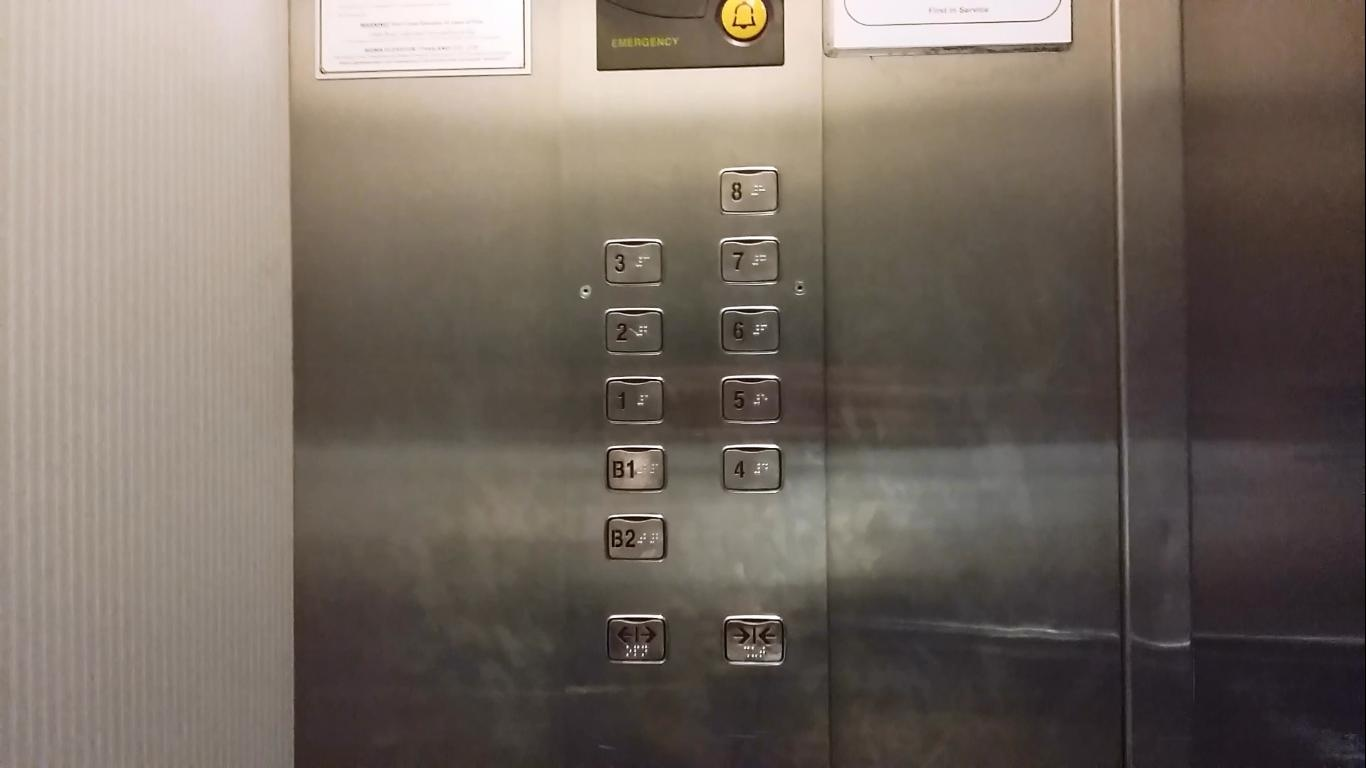1: (602, 373, 668, 425)
2: (600, 305, 666, 357)
3: (600, 236, 667, 290)
4: (717, 441, 783, 493)
5: (718, 373, 784, 425)
6: (717, 303, 783, 355)
7: (716, 234, 782, 286)
8: (715, 165, 781, 220)
B1: (601, 442, 669, 495)
B2: (603, 510, 669, 562)
alarm: (715, 1, 776, 48)
close: (720, 613, 788, 668)
open: (603, 612, 668, 667)
